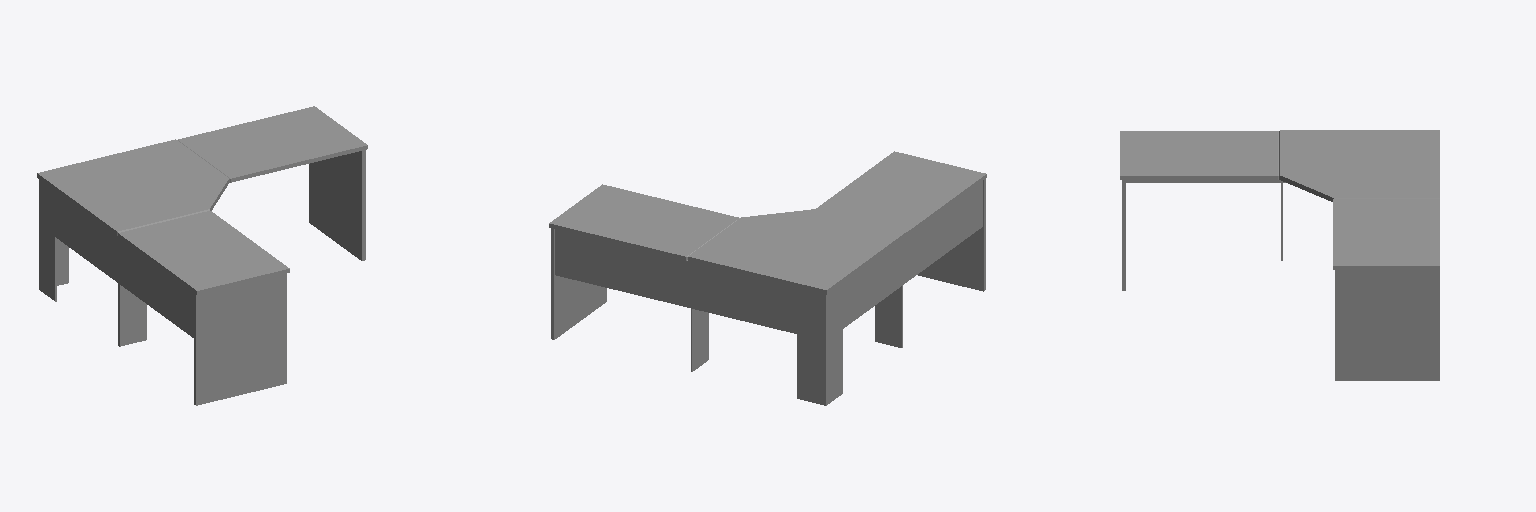
The model's file is desk.obj.
3 views of the same model, side by side, from view 1: azimuth 30°, elevation 25°; view 2: azimuth 150°, elevation 25°; view 3: azimuth 270°, elevation 25° (orthographic).
Visible parts, largest first — view 1: corner_desk_Cube.001; view 2: corner_desk_Cube.001; view 3: corner_desk_Cube.001.
Part boxes in pixels (left/top/right/bottom): corner_desk_Cube.001: left=37, top=106, right=367, bottom=405; corner_desk_Cube.001: left=549, top=151, right=986, bottom=405; corner_desk_Cube.001: left=1120, top=130, right=1439, bottom=380.
Bounding box in the file's own units: 1.8 × 0.7202 × 1.8.